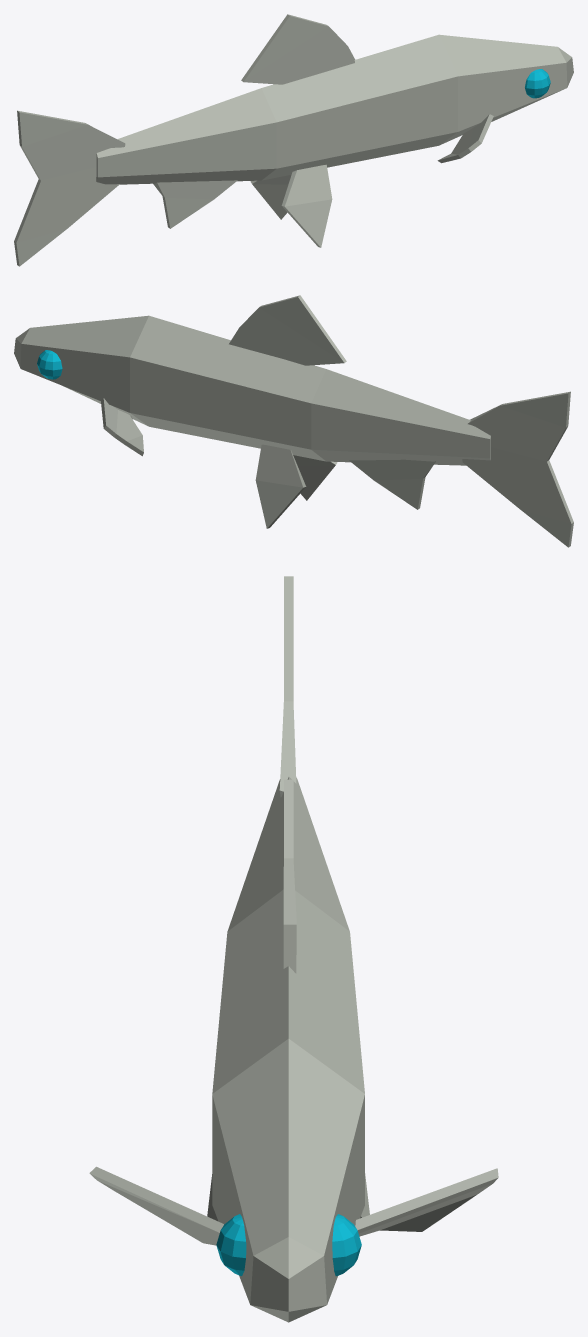
The model's file is Fish.fbx.
3 views of the same model, one above another, from view 1: azimuth 30°, elevation 25°; view 2: azimuth 150°, elevation 25°; view 3: azimuth 270°, elevation 25° (orthographic). The views are drawn at different scales.
Parts seen in each view (by area): view 1: Fish; view 2: Fish; view 3: Fish.
Part boxes in pixels (x1,y1,x2,y2): Fish: (14,14,573,266); Fish: (14,295,573,547); Fish: (89,576,498,1322).
Bounding box in the file's own units: 60.18 × 22.75 × 19.09.
